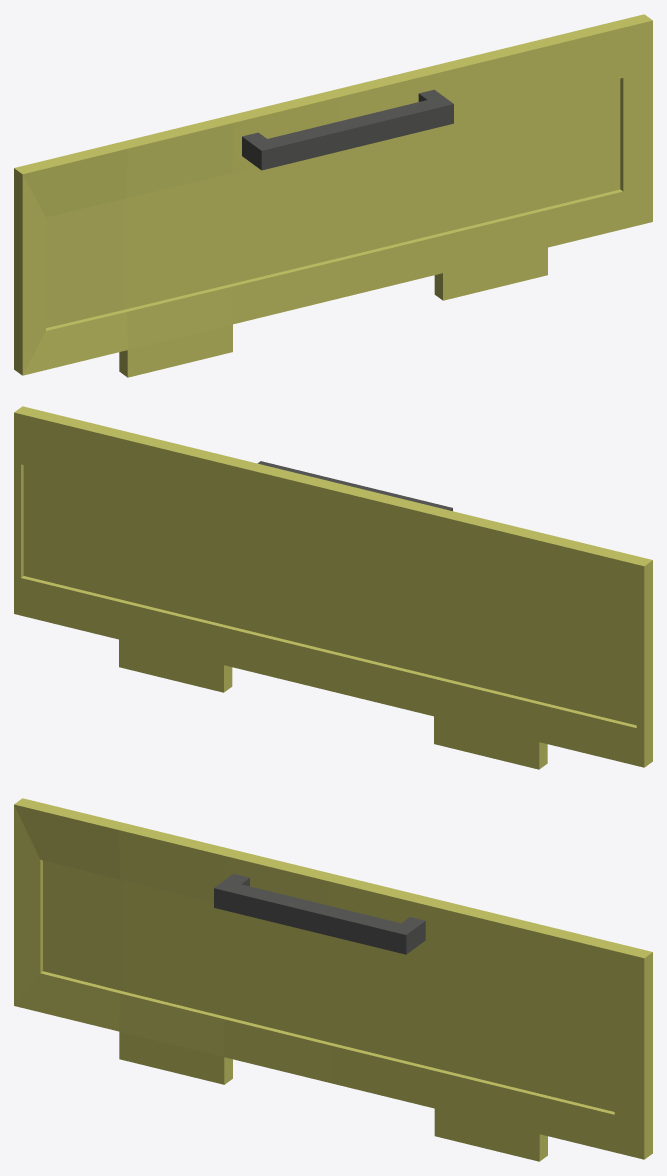
Rendered from Grill_Door.fbx.
3 views of the same model, one above another, from view 1: azimuth 30°, elevation 25°; view 2: azimuth 150°, elevation 25°; view 3: azimuth 330°, elevation 25° (orthographic).
Parts seen in each view (by area): view 1: Cube.173; view 2: Cube.173; view 3: Cube.173.
Part boxes in pixels (x1,y1,x2,y2): Cube.173: (14,14,652,377); Cube.173: (14,406,652,769); Cube.173: (14,798,652,1161).
Size of the model in its own units: 86.75 by 30.12 by 6.71.
